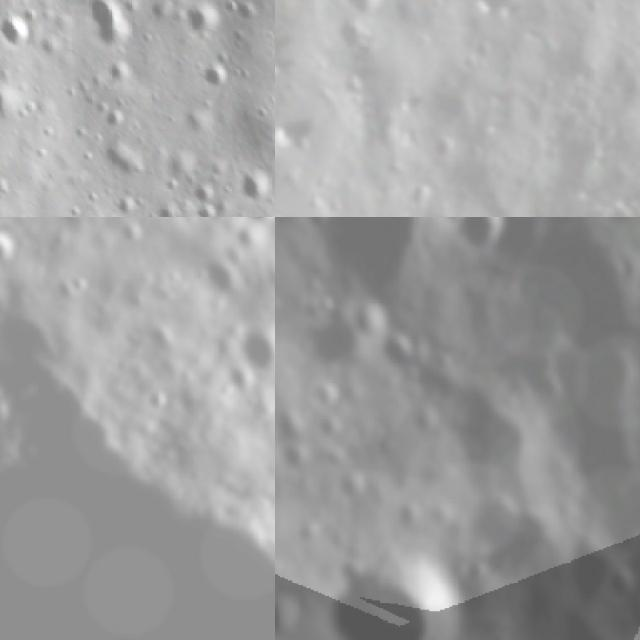crater: (310, 217, 453, 304), (328, 553, 467, 640), (456, 395, 553, 498), (460, 498, 569, 586), (228, 299, 275, 383), (187, 246, 249, 306), (77, 0, 133, 62), (0, 353, 35, 452), (448, 217, 514, 257), (374, 332, 426, 381), (179, 0, 228, 44), (601, 559, 640, 610), (0, 226, 35, 280), (275, 581, 305, 640), (59, 261, 100, 301), (0, 9, 38, 52), (278, 436, 316, 479), (302, 374, 346, 411), (142, 380, 182, 420), (239, 167, 275, 209), (191, 62, 234, 94), (333, 20, 368, 58), (102, 60, 136, 91), (317, 418, 348, 449), (0, 88, 19, 127), (192, 179, 215, 211), (337, 0, 382, 15), (148, 203, 185, 217), (195, 204, 229, 217)
